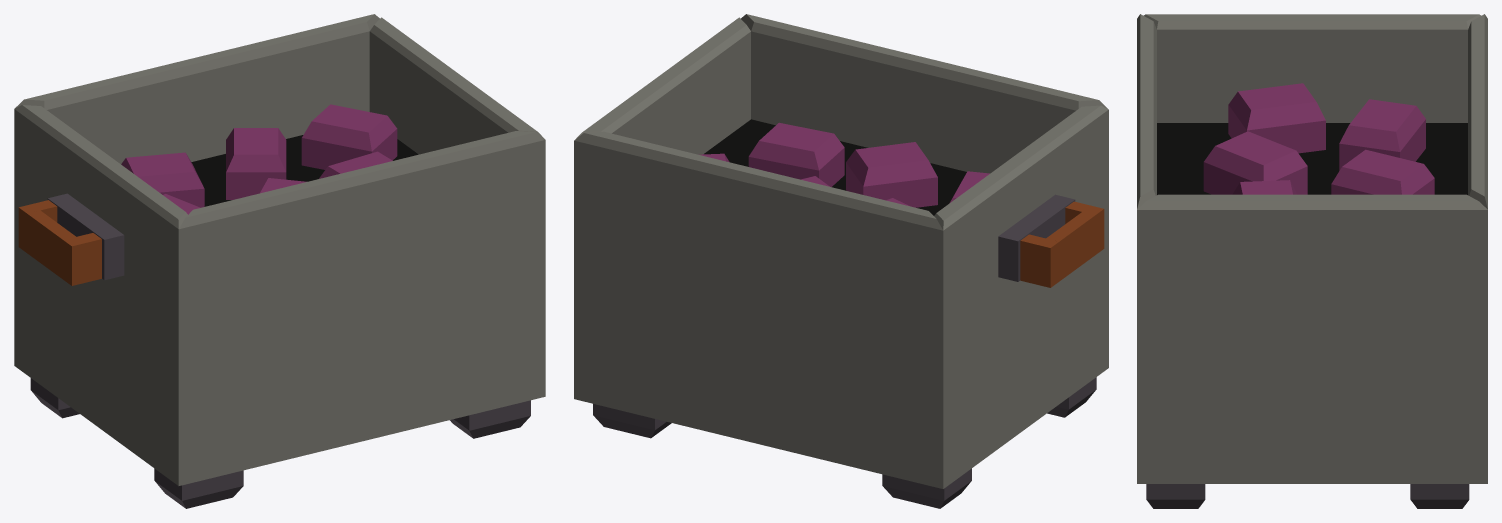
The model's file is Vaga.fbx.
The picture shows the model from 3 angles, left to right: view 1: azimuth 30°, elevation 25°; view 2: azimuth 150°, elevation 25°; view 3: azimuth 270°, elevation 25°; orthographic projection. The views are drawn at different scales.
Parts seen in each view (by area): view 1: Cube.036; view 2: Cube.036; view 3: Cube.036.
Part boxes in pixels (box(x1,y1,x2,y2)): Cube.036: box(14, 14, 545, 508); Cube.036: box(574, 14, 1108, 508); Cube.036: box(1137, 14, 1487, 508).
Size of the model in its own units: 1.18 by 0.8013 by 0.803.
